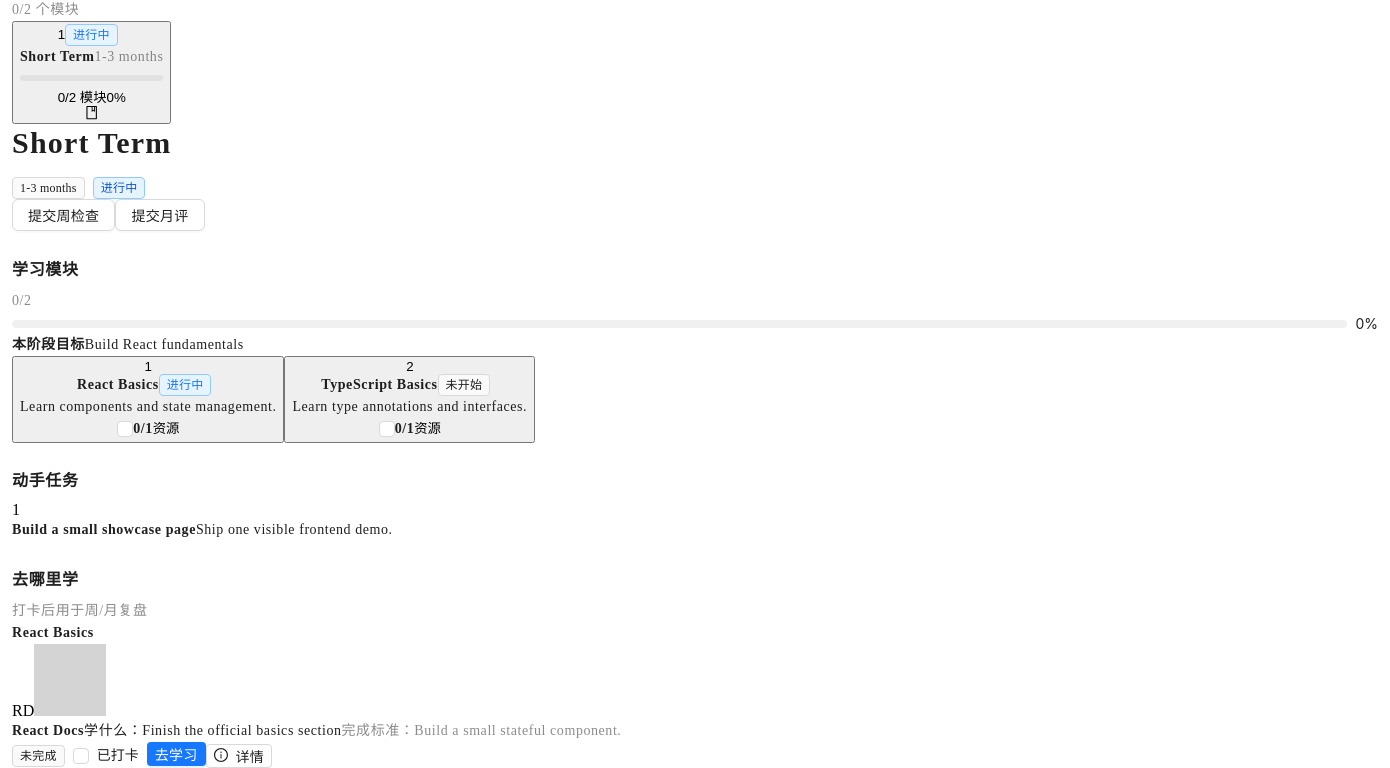
LearningPathPage › updates target completion when a module is checked off
This screenshot has width=1390, height=768.
(page scrolled)
Expected: the text "React Docs" is shown, [12, 723, 84, 738]
Step 1. Click the 3rd checkbox labelled "已打卡" → (110, 756), box [73, 745, 147, 767]
(page scrolled)
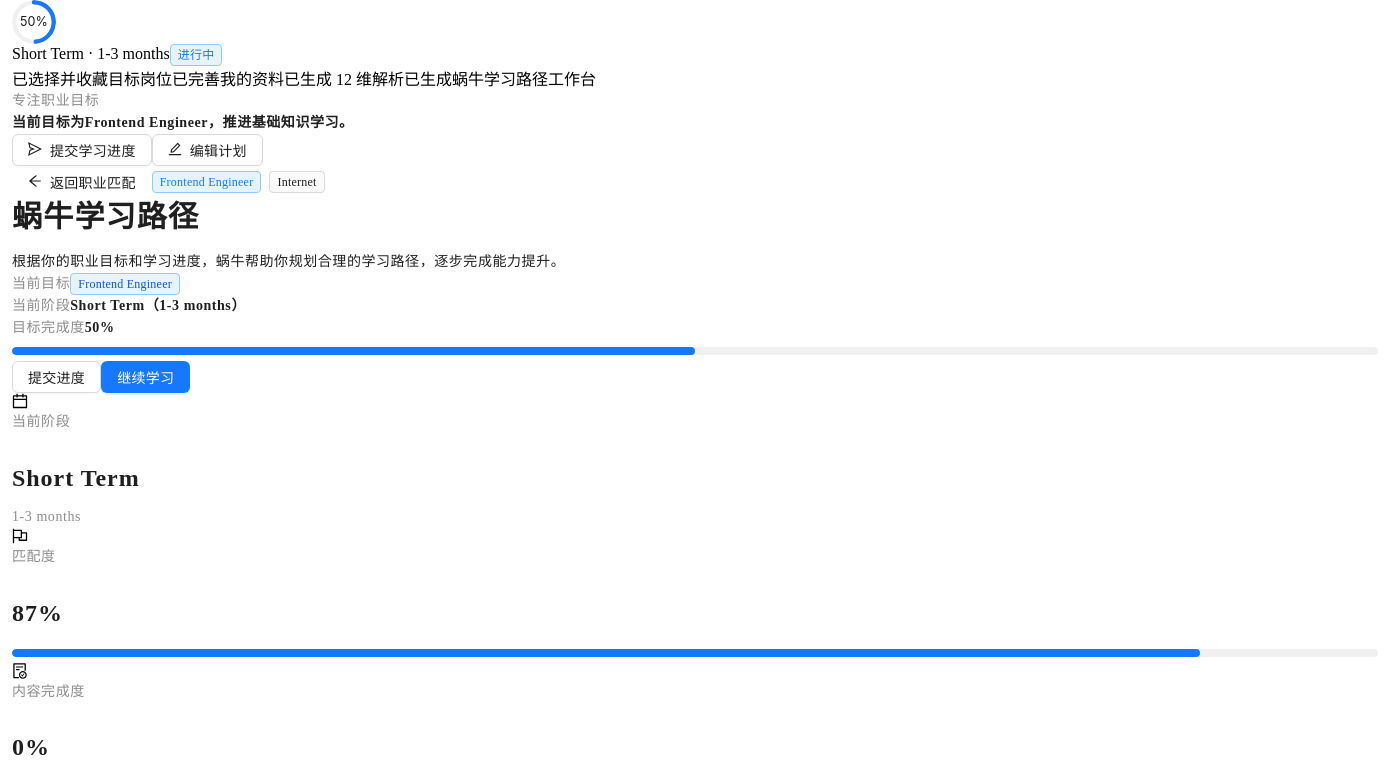
Now the picture named "当前阶段完成度 50%" is shown, box [12, 12, 56, 29]
Now the text "目标完成度" shows "50%", box [12, 320, 114, 335]
